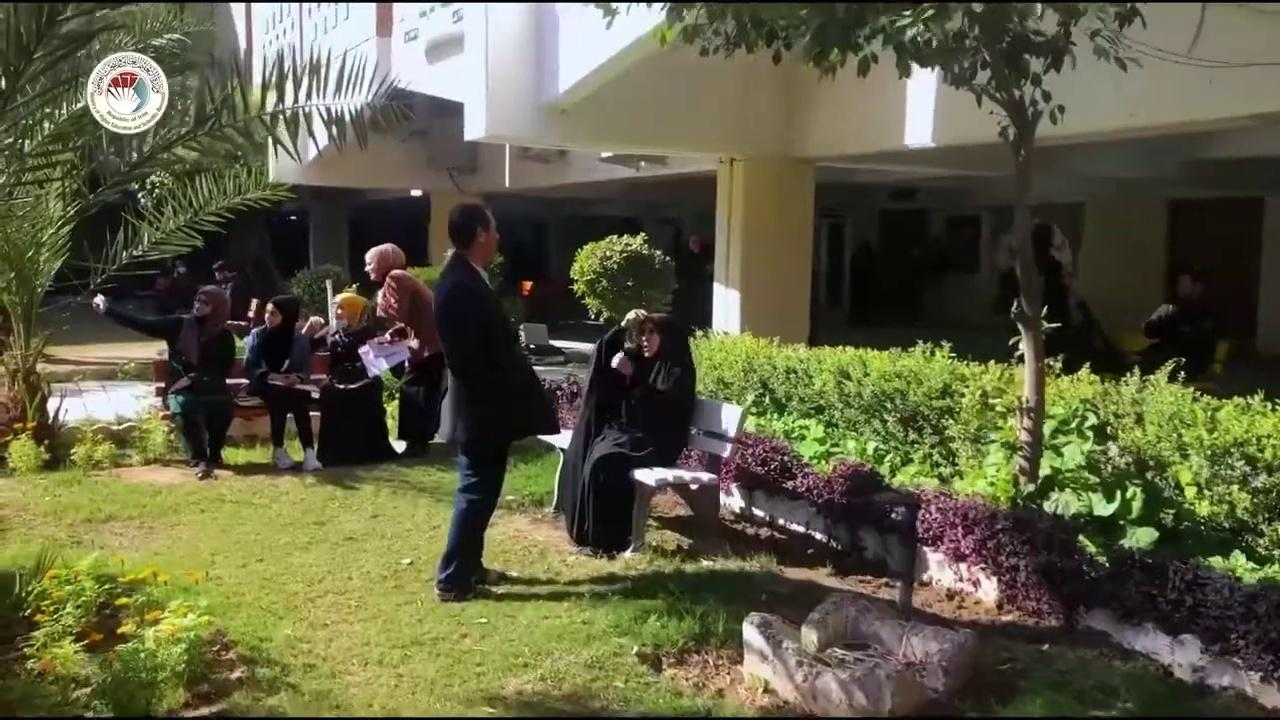person: (431, 201, 561, 603), (556, 308, 696, 560), (92, 283, 237, 480), (363, 242, 447, 458), (308, 291, 400, 467), (242, 293, 325, 472), (1137, 265, 1221, 381)
tree: (590, 0, 1277, 500), (0, 4, 416, 479), (1, 544, 252, 718), (567, 230, 677, 327), (288, 262, 350, 326)
